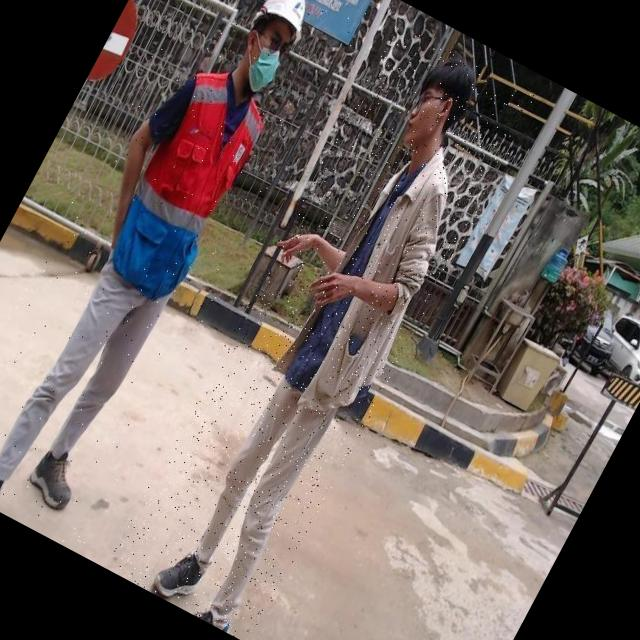hard_hat: (245, 0, 324, 51)
safety_vest: (94, 58, 281, 301)
vehicle: (104, 21, 539, 640), (0, 0, 373, 554)
work_boots: (19, 440, 89, 514), (146, 540, 210, 610), (0, 467, 9, 509)
